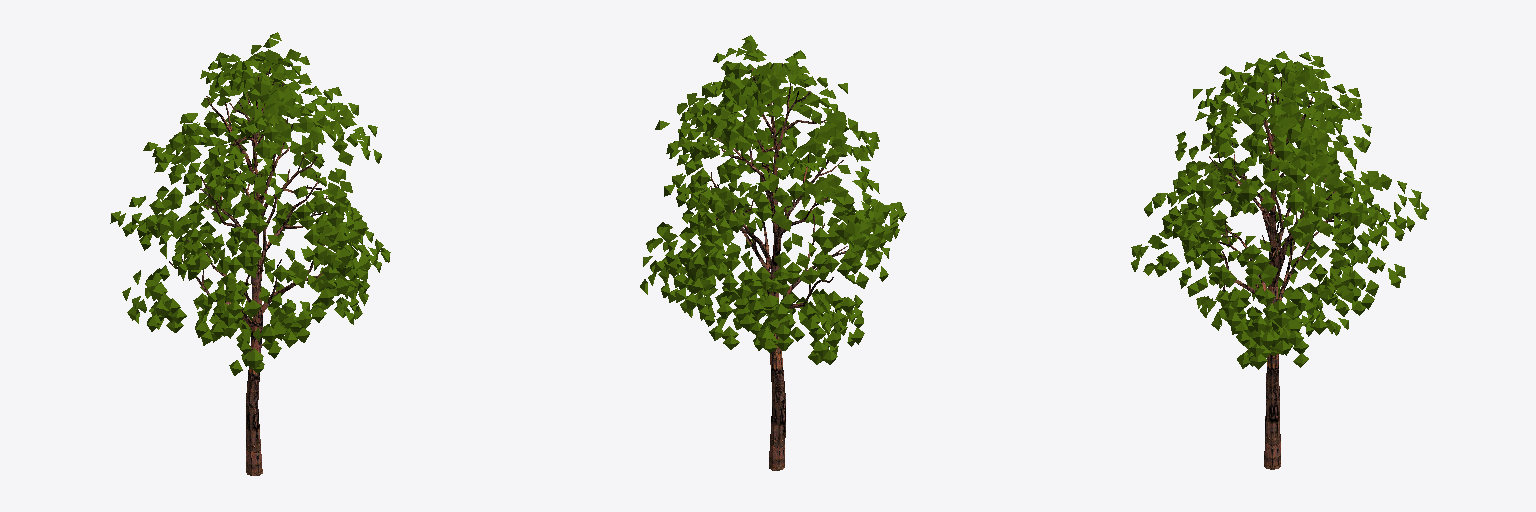
The picture shows the model from 3 angles: view 1: azimuth 30°, elevation 25°; view 2: azimuth 150°, elevation 25°; view 3: azimuth 270°, elevation 25°; orthographic projection.
Visible parts, largest first — view 1: Mesh1 G_3DGeom_202 TREE1 Component1 Model; view 2: Mesh1 G_3DGeom_202 TREE1 Component1 Model; view 3: Mesh1 G_3DGeom_202 TREE1 Component1 Model.
Part boxes in pixels (bbox=[...]): Mesh1 G_3DGeom_202 TREE1 Component1 Model: bbox=[246, 101, 262, 475]; Mesh1 G_3DGeom_202 TREE1 Component1 Model: bbox=[769, 103, 785, 470]; Mesh1 G_3DGeom_202 TREE1 Component1 Model: bbox=[1264, 95, 1280, 469].
Size of the model in its own units: 148 by 235 by 150.
2 materials, 1 textured.